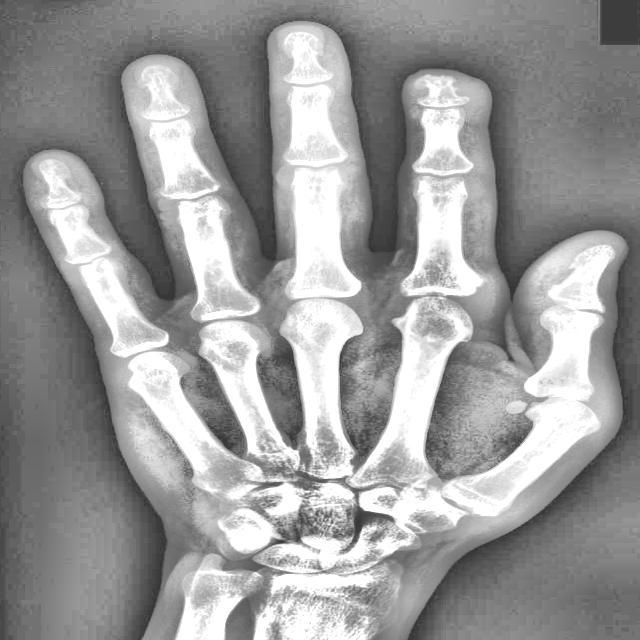fracture: (412, 74, 457, 92)
